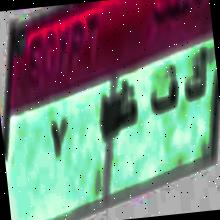7: (44, 111, 75, 172)
Thaa: (110, 77, 144, 132)
faa: (146, 62, 182, 120)
kaaf: (177, 42, 215, 113)
